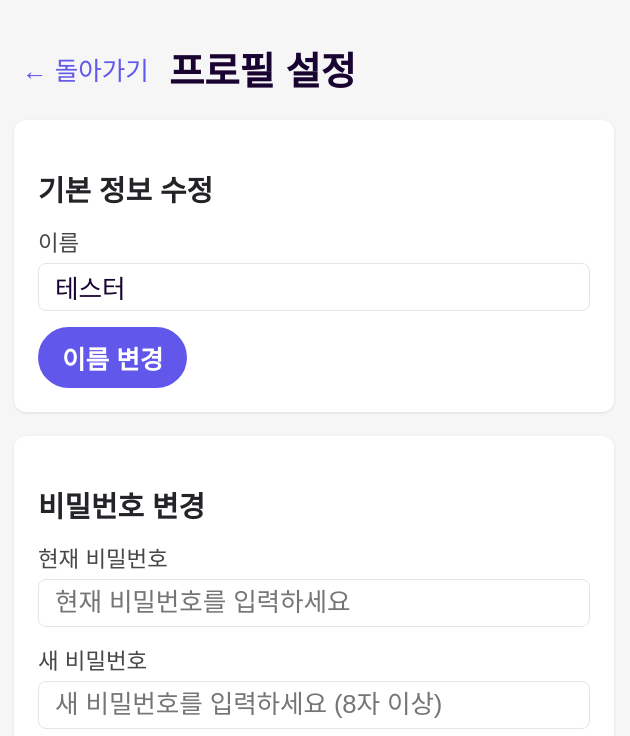
Scenario: ProfileEditForm › 비밀번호 변경 섹션 › 새 비밀번호와 확인이 일치하지 않으면 에러를 표시한다
This screenshot has width=630, height=736.
Type "oldpassword" into the password field labelled "현재 비밀번호". click: coordinates (314, 603)
box: [38, 579, 590, 627]
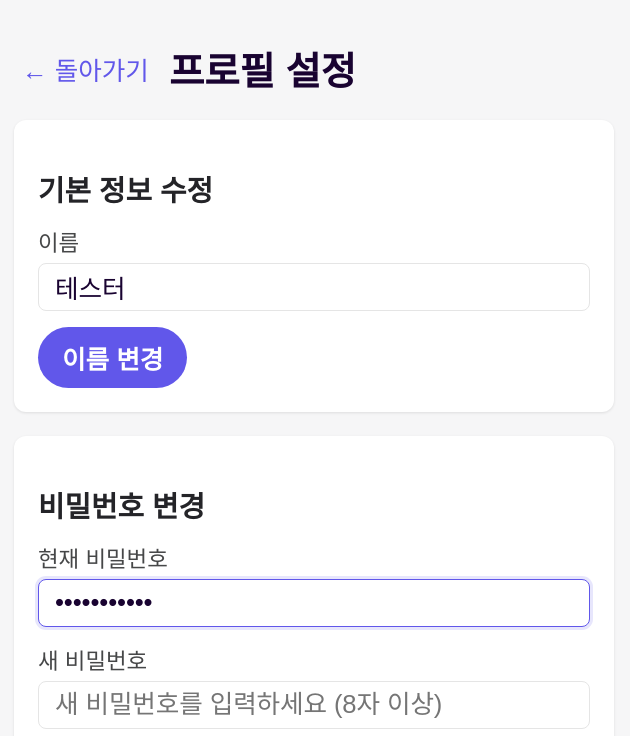
Type "newpassword123" into the password field labelled "새 비밀번호". click: coordinates (314, 705)
box: [38, 681, 590, 729]
(page scrolled)
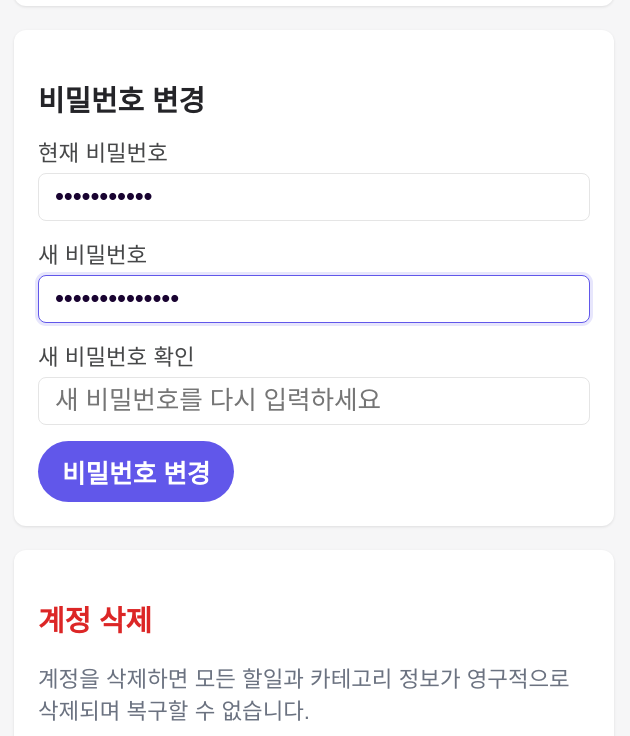
Type "different123" into the password field labelled "새 비밀번호 확인". click: coordinates (314, 401)
box: [38, 377, 590, 425]
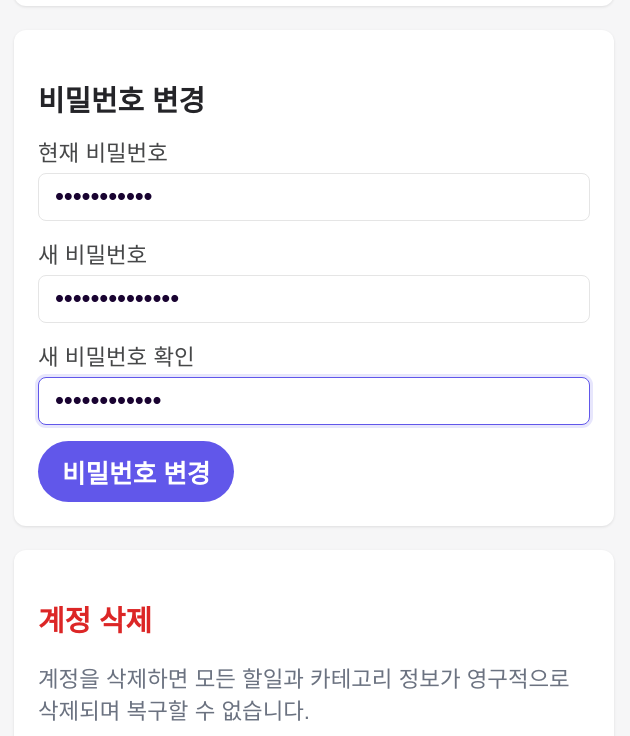
Click the button "비밀번호 변경". click: coordinates (136, 471)
box: [38, 441, 234, 502]
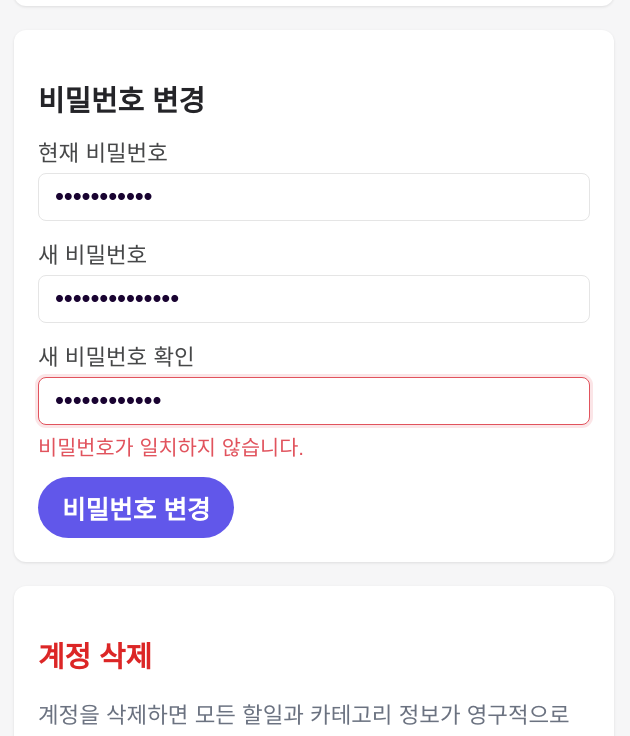
Expected: the text "비밀번호가 일치하지 않습니다." is shown, [38, 436, 304, 459]
